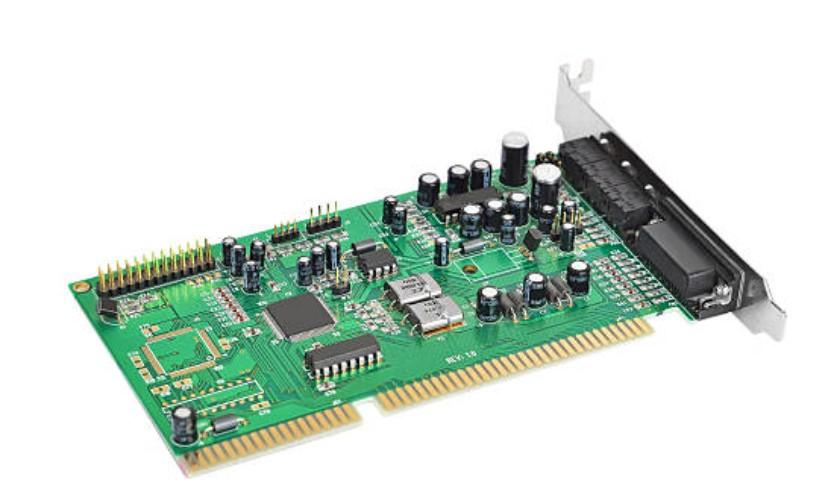Printed Circuit Board PCB: (70, 132, 768, 474)
